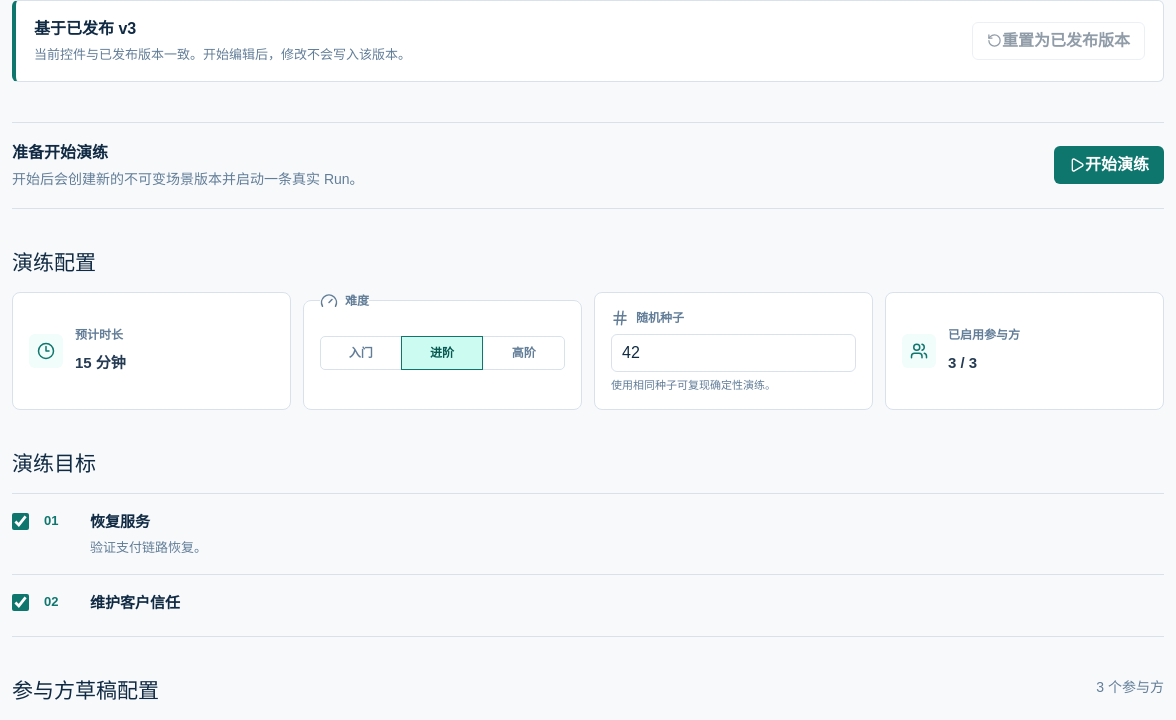
Scenario: StudioDraft › 提交最小草稿 DTO，并在成功后跳转到真实 Run
Click the button "开始演练" at [1109, 165], box [1054,146,1164,184]
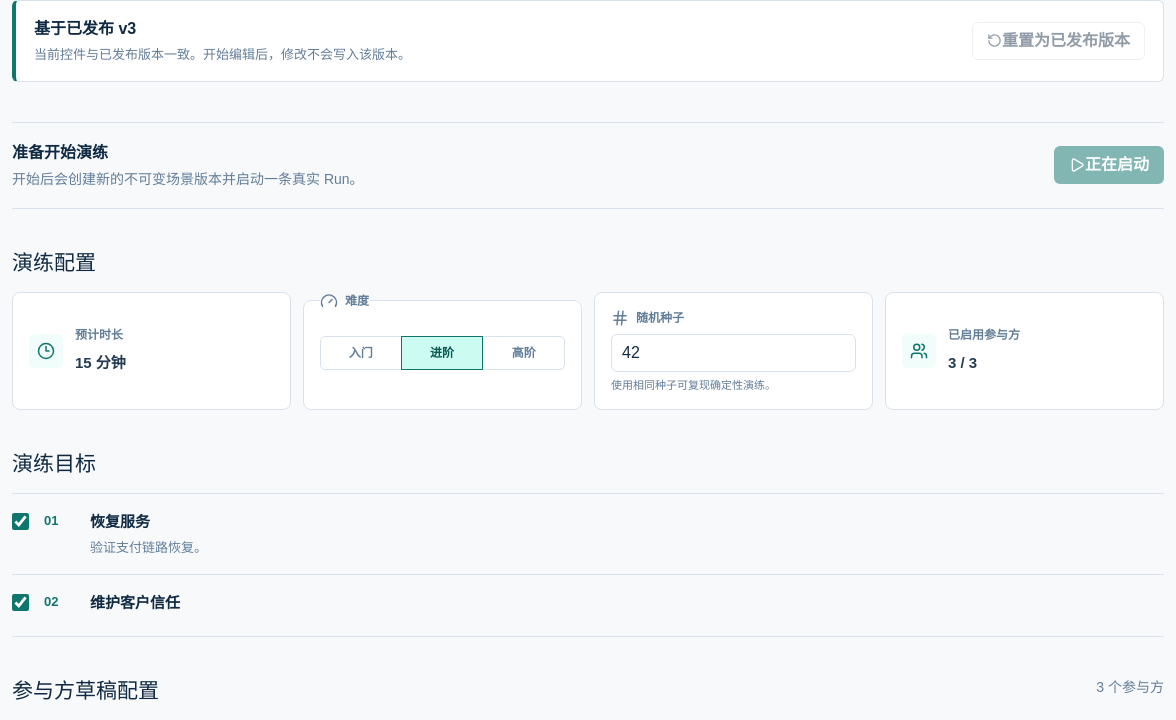
Expected: the button "正在启动" is disabled, [1054,146,1164,184]
